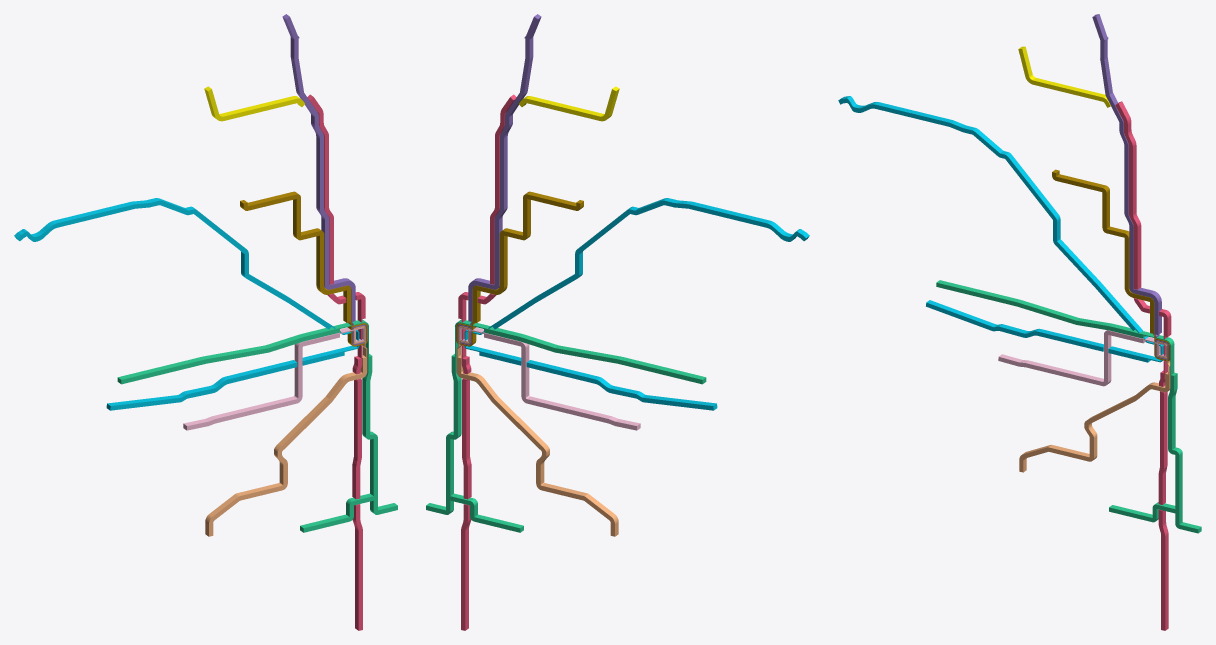
The model's file is CTA_COMPLETE_COLOR.glb.
3 views of the same model, side by side, from view 1: azimuth 30°, elevation 25°; view 2: azimuth 150°, elevation 25°; view 3: azimuth 330°, elevation 25° (orthographic). The views are drawn at different scales.
Visible parts, largest first — view 1: CTA_3D_COLORED v2; view 2: CTA_3D_COLORED v2; view 3: CTA_3D_COLORED v2.
Part boxes in pixels (left/top/right/bottom): CTA_3D_COLORED v2: left=14, top=14, right=397, bottom=630; CTA_3D_COLORED v2: left=426, top=14, right=809, bottom=630; CTA_3D_COLORED v2: left=838, top=14, right=1201, bottom=630.
Size of the model in its own units: 11.95 by 18.95 by 0.2.
